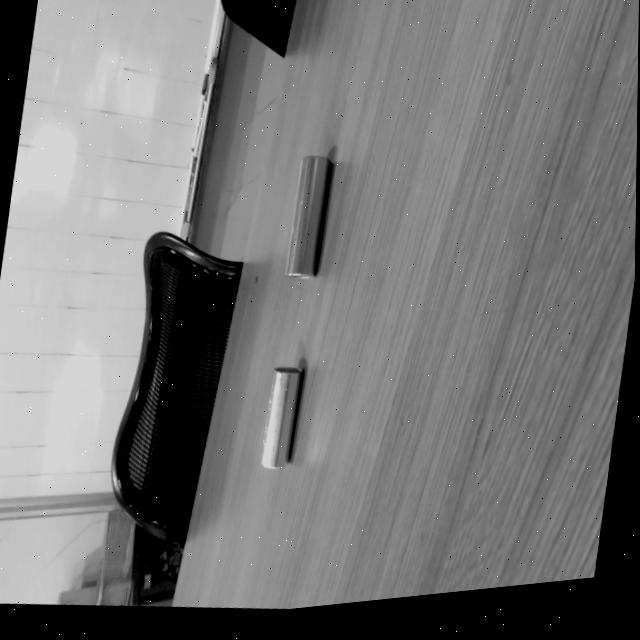Co_Lon: (283, 153, 332, 280)
Co_Nho: (258, 364, 303, 471)
